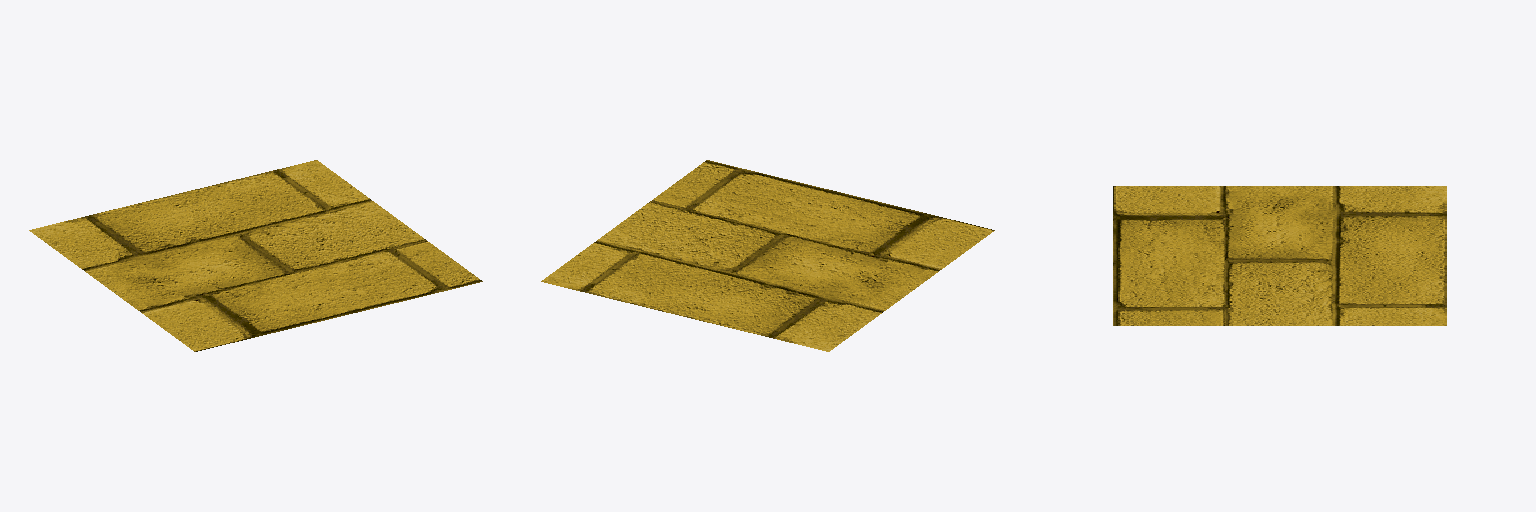
3 views of the same model, side by side, from view 1: azimuth 30°, elevation 25°; view 2: azimuth 150°, elevation 25°; view 3: azimuth 270°, elevation 25° (orthographic).
Parts seen in each view (by area): view 1: brick_ceil_x1; view 2: brick_ceil_x1; view 3: brick_ceil_x1.
Boxes of the visible parts, x1,y1,x2,y2 form: brick_ceil_x1: [29, 160, 482, 351]; brick_ceil_x1: [541, 160, 994, 351]; brick_ceil_x1: [1113, 186, 1446, 325].
Bounding box in the file's own units: 100 × 0 × 100.
1 materials, 1 textured.